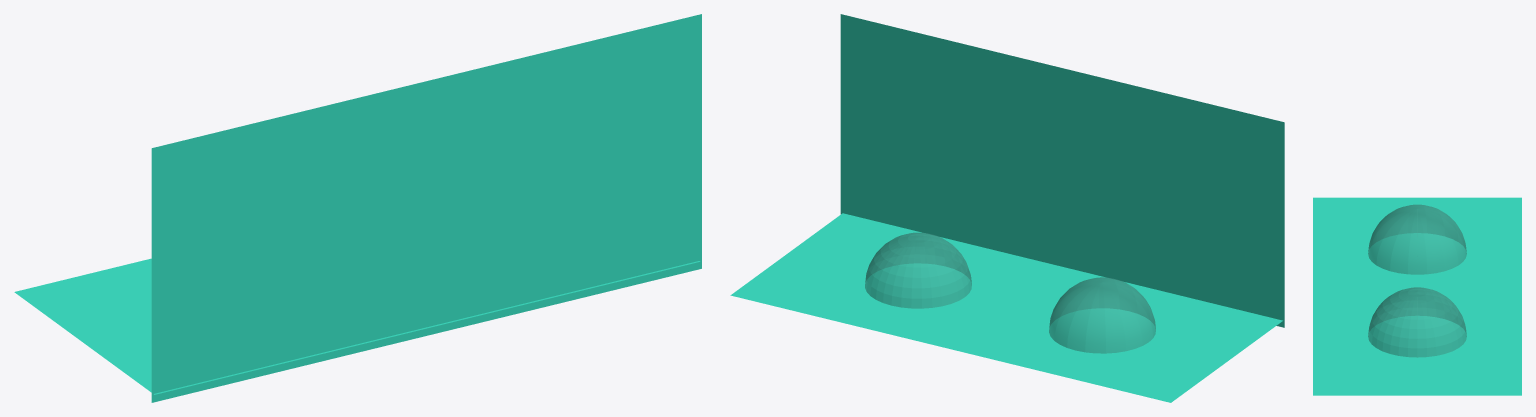
Rendered from EnemyDome.fbx.
The picture shows the model from 3 angles, left to right: view 1: azimuth 30°, elevation 25°; view 2: azimuth 150°, elevation 25°; view 3: azimuth 270°, elevation 25°; orthographic projection. The views are drawn at different scales.
Visible parts, largest first — view 1: Plane.001, Plane; view 2: Plane.001, Plane, Sphere.003, Sphere.019, Sphere.020, Sphere.002, Sphere.004, Sphere.018, Sphere.021, Sphere.017, Sphere.005, Sphere.025 (+9 smaller); view 3: Plane, Sphere.014, Sphere.013, Sphere.028, Sphere.027, Sphere.029, Sphere.012, Sphere.015, Sphere.026, Sphere.030, Sphere.011, Sphere.016 (+17 smaller).
Part boxes in pixels (x1,y1,x2,y2): Plane.001: (151, 14, 701, 402); Plane: (14, 258, 700, 394); Plane.001: (840, 14, 1284, 327); Plane: (730, 213, 1282, 402); Sphere.003: (911, 238, 932, 308); Sphere.019: (1085, 283, 1105, 353); Sphere.020: (1102, 283, 1126, 353); Sphere.002: (891, 238, 917, 308); Sphere.004: (919, 238, 950, 307); Sphere.018: (1067, 283, 1101, 352); Sphere.021: (1103, 283, 1142, 350); Sphere.017: (876, 238, 917, 305); Sphere.005: (920, 238, 964, 303); Sphere.025: (1054, 283, 1100, 347); Plane: (1313, 197, 1521, 395); Sphere.014: (1417, 292, 1436, 357); Sphere.013: (1398, 293, 1417, 357); Sphere.028: (1408, 209, 1426, 274); Sphere.027: (1418, 210, 1444, 274); Sphere.029: (1390, 210, 1416, 274); Sphere.012: (1382, 292, 1416, 355); Sphere.015: (1418, 292, 1452, 355); Sphere.026: (1418, 209, 1458, 270); Sphere.030: (1376, 209, 1416, 270); Sphere.011: (1372, 292, 1416, 350); Sphere.016: (1419, 292, 1462, 350).
Size of the model in its own units: 1614 by 714 by 714.
